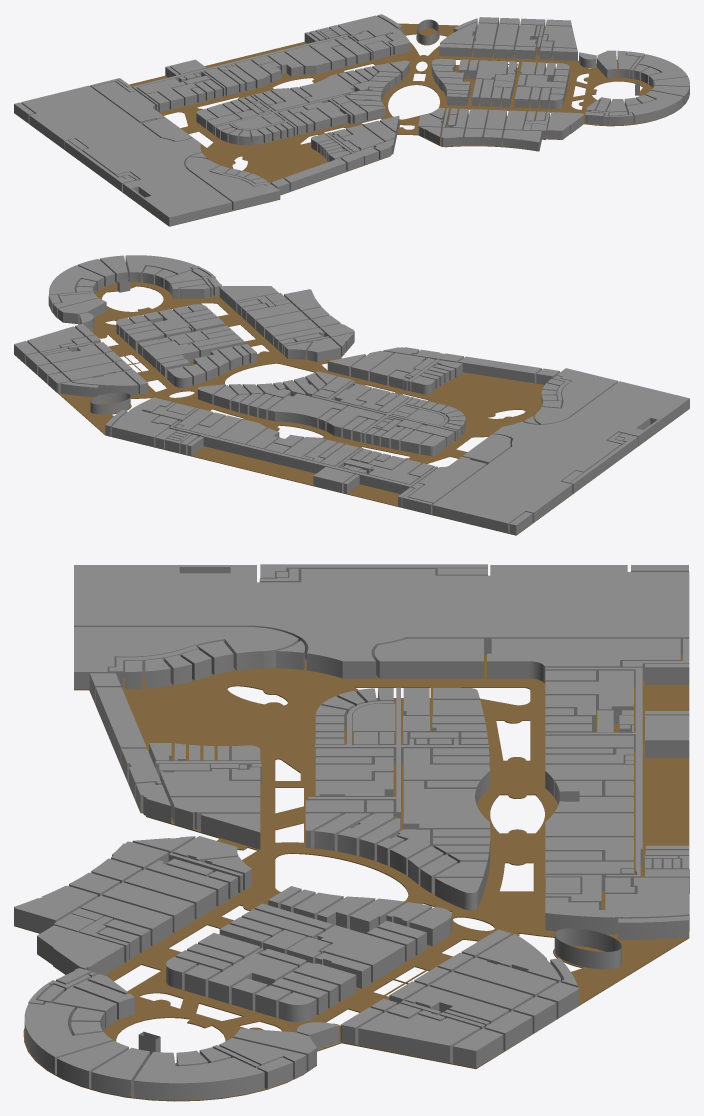
3 views of the same model, one above another, from view 1: azimuth 30°, elevation 25°; view 2: azimuth 150°, elevation 25°; view 3: azimuth 270°, elevation 25° (orthographic). The views are drawn at different scales.
Visible parts, largest first — view 1: Layer:AREA, Shape001, Shape002; view 2: Layer:AREA, Shape001, Shape002; view 3: Layer:AREA, Shape001, Shape002.
Boxes of the visible parts, x1,y1,x2,y2 form: Layer:AREA: (14,14,689,226); Shape001: (14,23,686,226); Shape002: (417,19,438,44); Layer:AREA: (14,255,689,534); Shape001: (14,276,689,535); Shape002: (90,392,130,414); Layer:AREA: (14,564,689,1100); Shape001: (14,654,689,1101); Shape002: (554,928,621,969).
Bounding box in the file's own units: 385 × 6.35 × 212.
